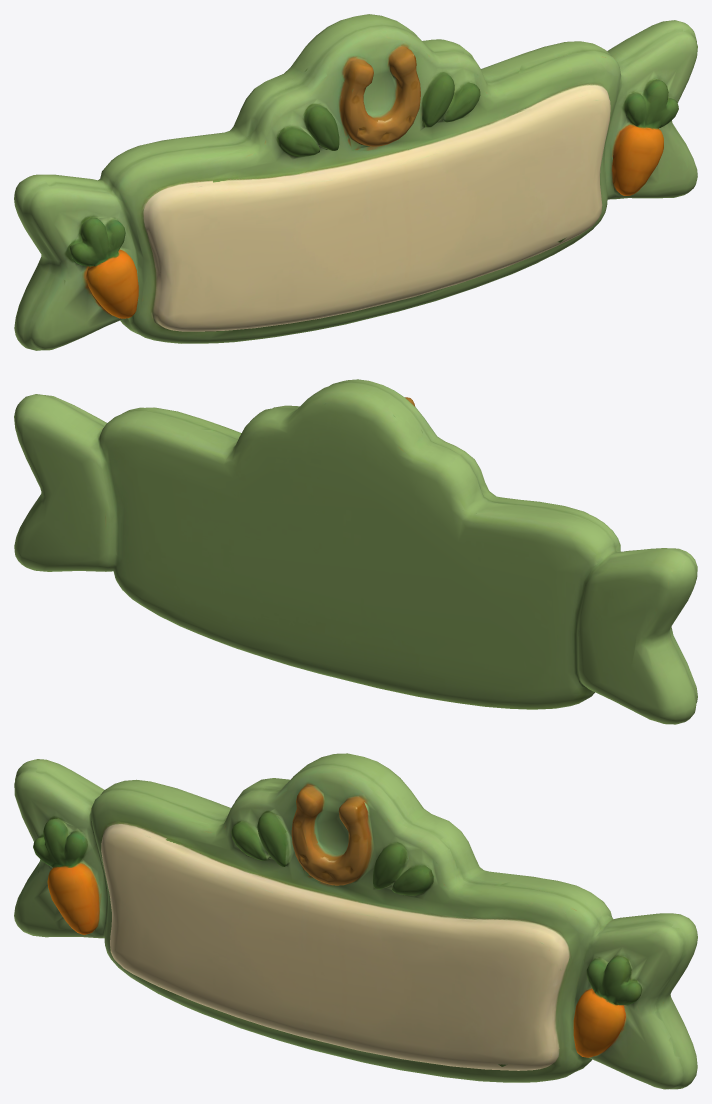
The picture shows the model from 3 angles, top to bottom: view 1: azimuth 30°, elevation 25°; view 2: azimuth 150°, elevation 25°; view 3: azimuth 330°, elevation 25°; orthographic projection.
Visible parts, largest first — view 1: plate-mint; view 2: plate-mint; view 3: plate-mint.
Part boxes in pixels (x1=…): plate-mint: x1=14, y1=14, x2=697, y2=350; plate-mint: x1=14, y1=379, x2=697, y2=724; plate-mint: x1=14, y1=753, x2=697, y2=1089.
Size of the model in its own units: 1.2 by 0.4903 by 0.1438.
1 material, 1 textured.
